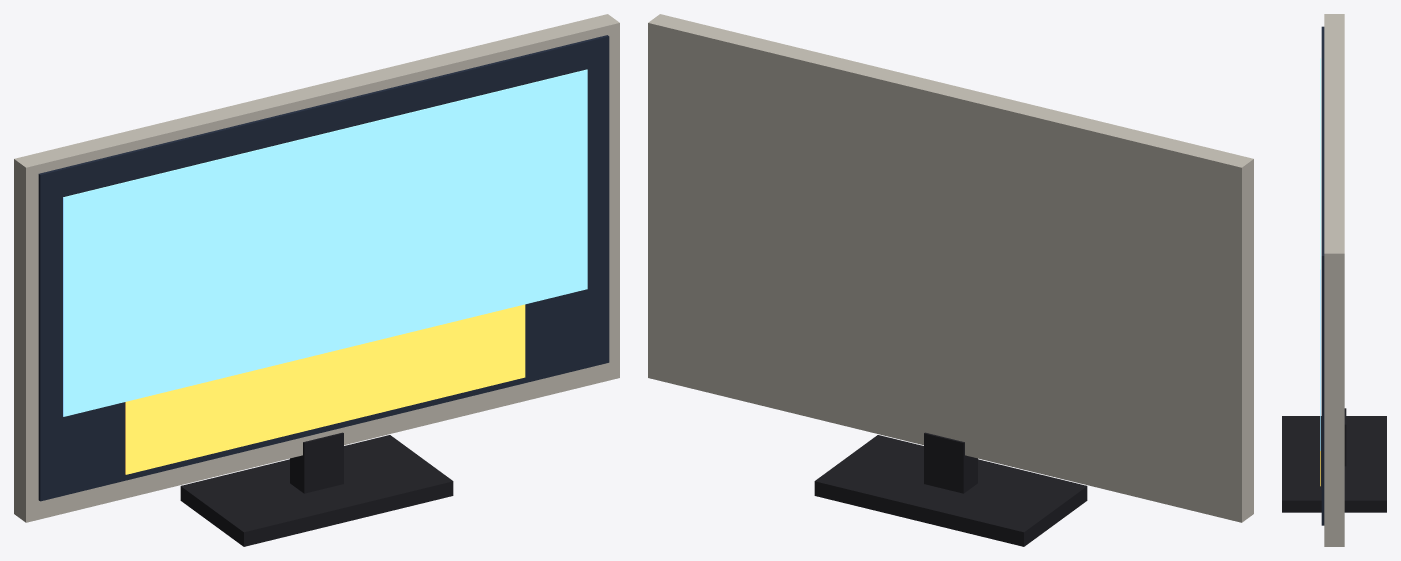
File: tv_plasma.glb
The picture shows the model from 3 angles, left to right: view 1: azimuth 30°, elevation 25°; view 2: azimuth 150°, elevation 25°; view 3: azimuth 270°, elevation 25°; orthographic projection. The views are drawn at different scales.
Parts seen in each view (by area): view 1: tv_plasma; view 2: tv_plasma; view 3: tv_plasma.
Boxes of the visible parts, <box> form: tv_plasma: <box>14,14,619,546</box>; tv_plasma: <box>648,14,1253,546</box>; tv_plasma: <box>1282,14,1386,546</box>.
Size of the model in its own units: 1.19 by 0.78 by 0.22.
